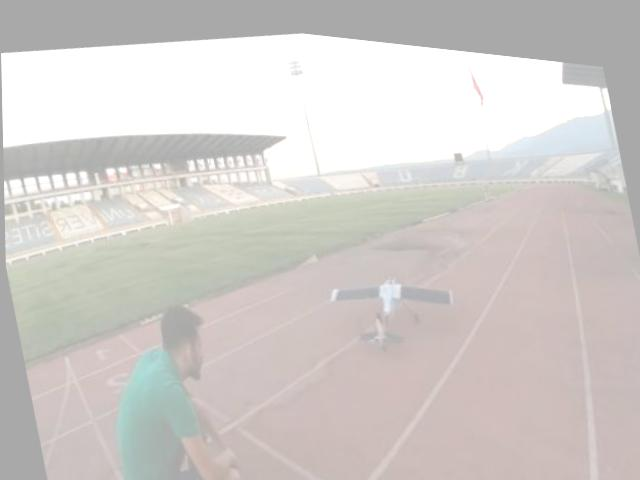uav: (323, 246, 466, 356)
